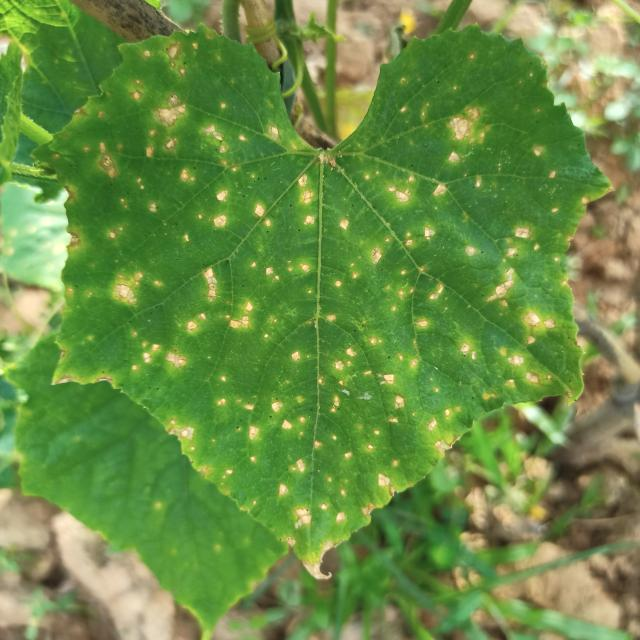disease_cucumber: (99, 263, 550, 534), (286, 87, 574, 356), (61, 40, 315, 331)
